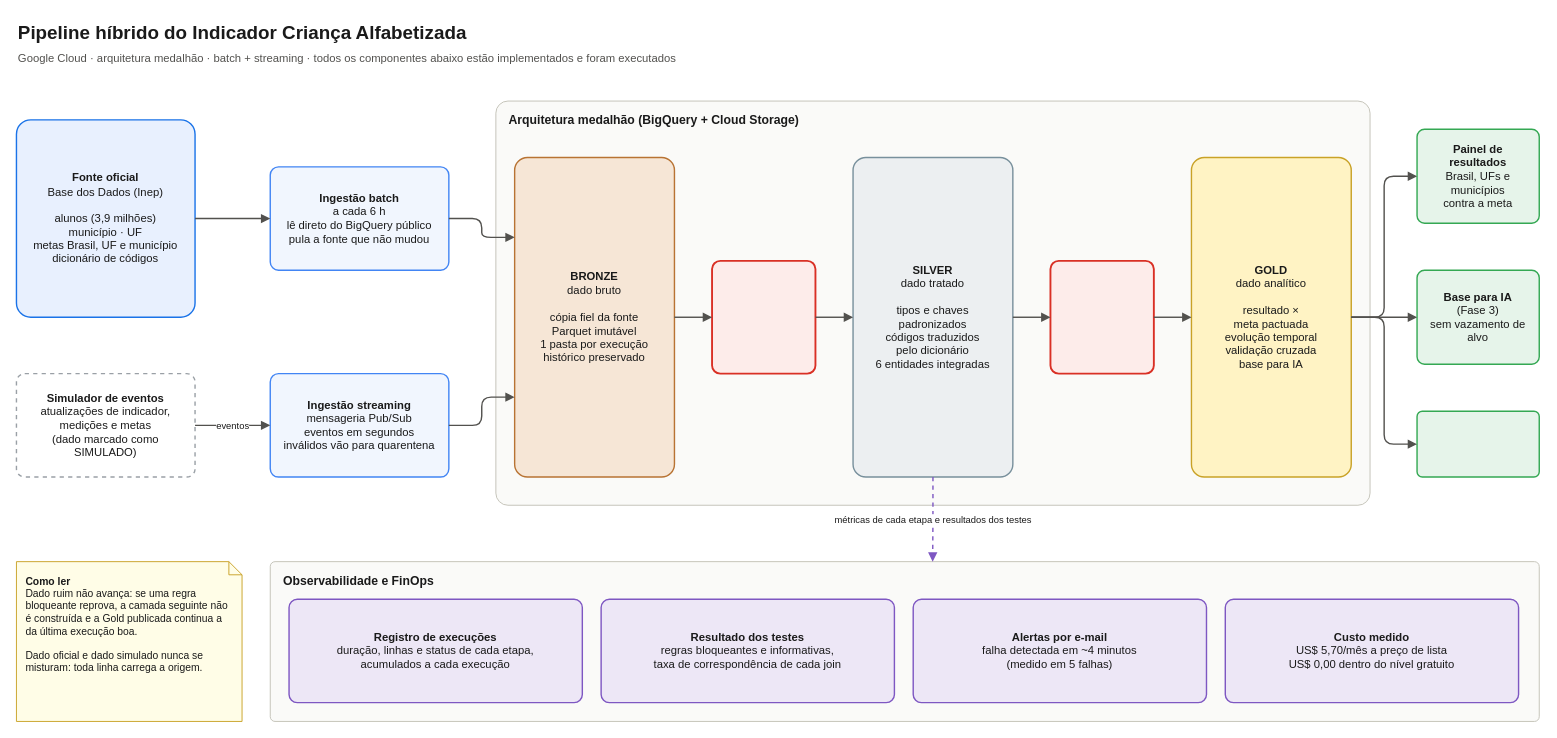
This 1557x738 diagram has some shape labels left out. Each missing label, with the centre of its shape:
"Consultas SQL e análises" goes at [1478,443].
"Portão de qualidade só avança se aprovado" goes at [763,316].
"Portão de qualidade só publica se aprovado" goes at [1101,316].
